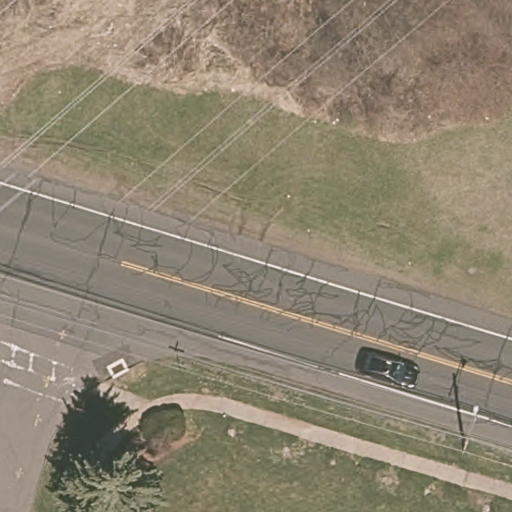DT: (460, 402, 478, 452)
